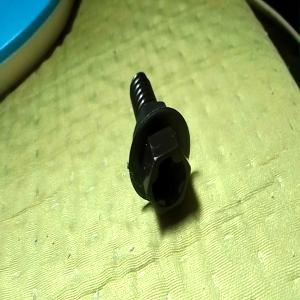parafuso: (127, 71, 192, 215)
